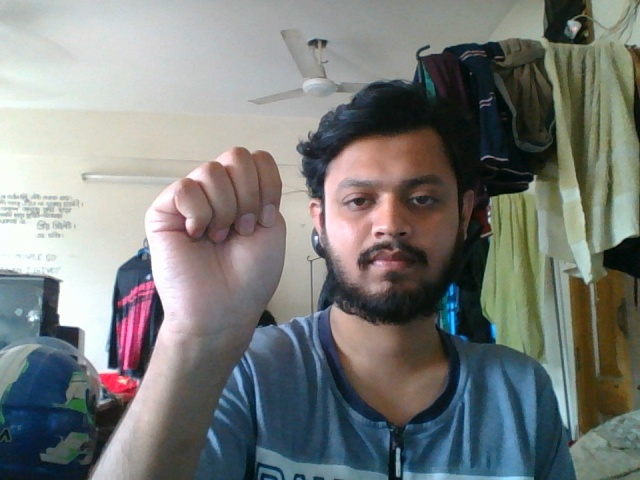to: (127, 138, 300, 371)
